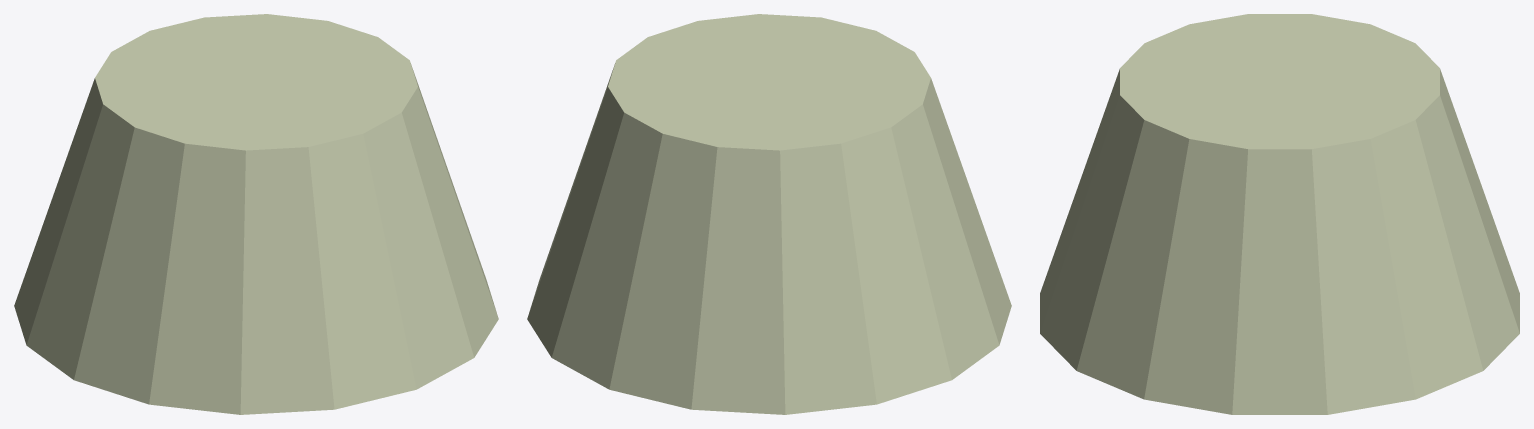
Rendered from tantares_lv_fuel_tank_s1p5_s1_1_collider.obj.
The picture shows the model from 3 angles, left to right: view 1: azimuth 30°, elevation 25°; view 2: azimuth 150°, elevation 25°; view 3: azimuth 270°, elevation 25°; orthographic projection.
Parts seen in each view (by area): view 1: tantares_lv_fuel_tank_s1p5_s1_1_collider; view 2: tantares_lv_fuel_tank_s1p5_s1_1_collider; view 3: tantares_lv_fuel_tank_s1p5_s1_1_collider.
Part boxes in pixels (box(x1,y1,x2,y2)): tantares_lv_fuel_tank_s1p5_s1_1_collider: box(14, 14, 498, 414); tantares_lv_fuel_tank_s1p5_s1_1_collider: box(527, 14, 1011, 414); tantares_lv_fuel_tank_s1p5_s1_1_collider: box(1040, 14, 1519, 414).
Bounding box in the file's own units: 1.88 × 1 × 1.88.
